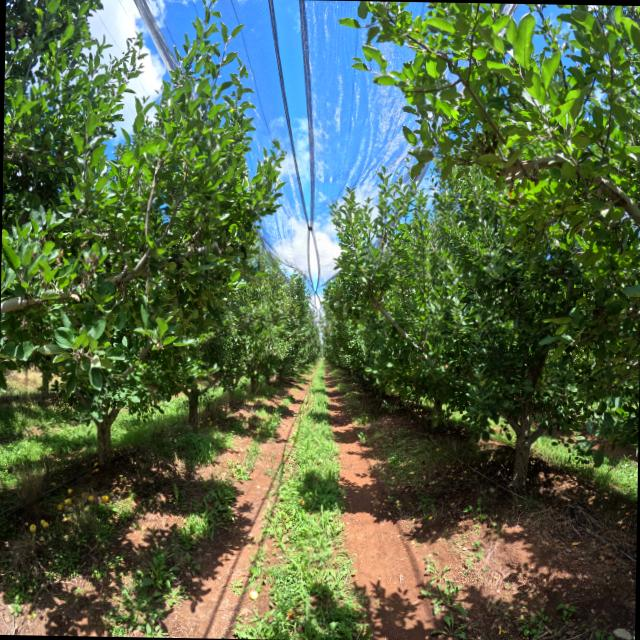-FireBlight-: (78, 251, 100, 294)
